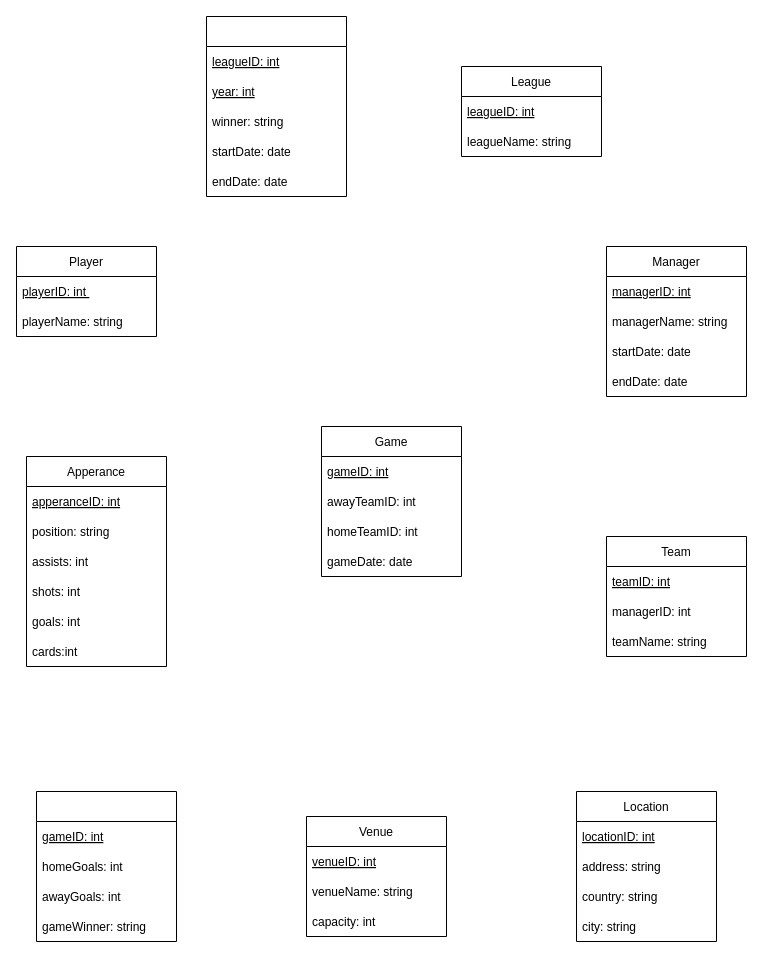
The diagram is 763 pixels wide and 958 high, and some of its shapes have lost their labels. Each missing label, with the box of its shape:
Outcome: (36, 790, 176, 942)
Season: (206, 16, 346, 196)
